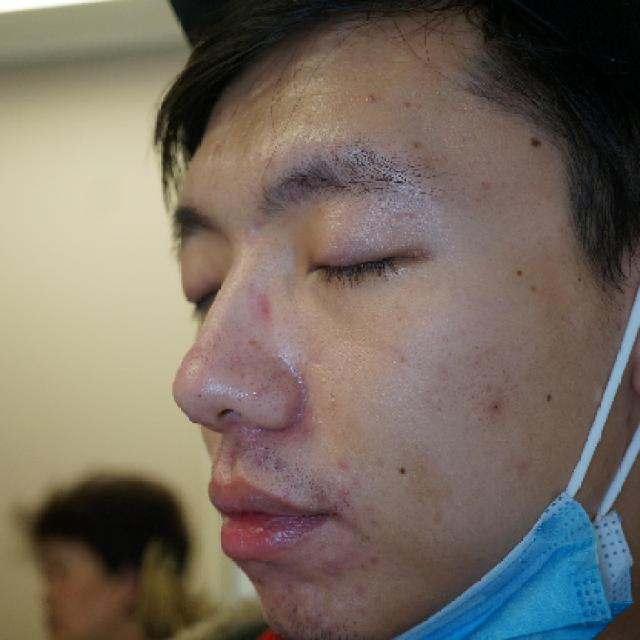Blackheads: (388, 454, 417, 486), (534, 386, 564, 414), (504, 258, 534, 284), (488, 397, 503, 417)
Whiteheads: (357, 84, 385, 108), (394, 94, 418, 115), (246, 385, 265, 403)
